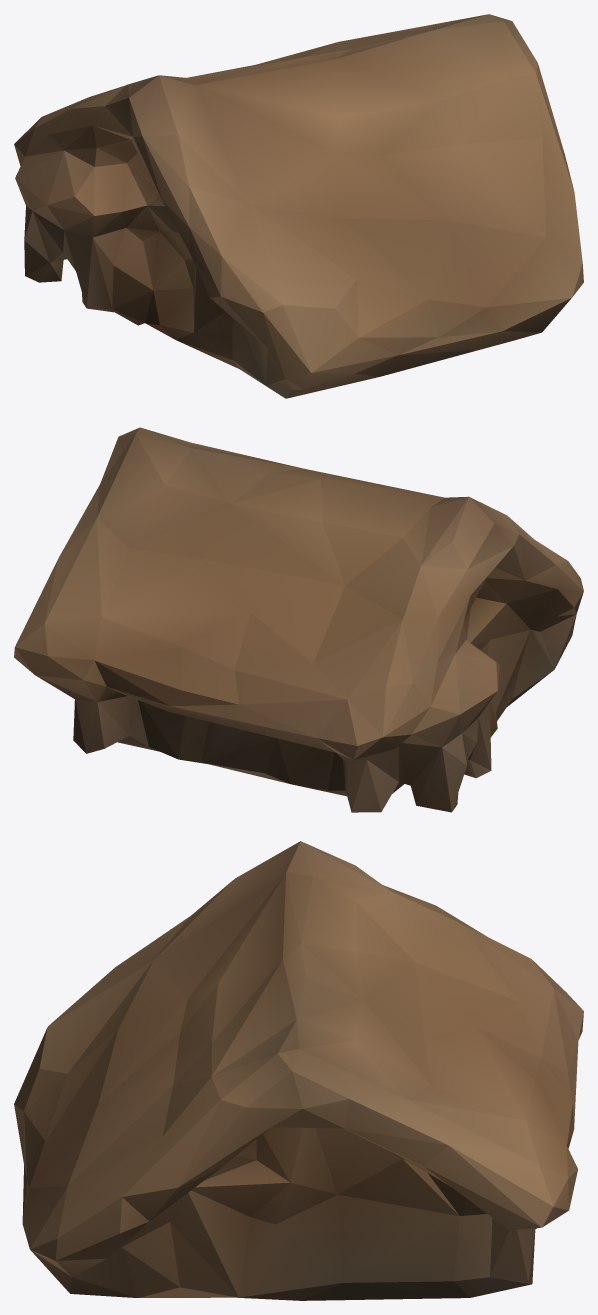
File: farm.glb
3 renders of one model, top to bottom at view 1: azimuth 30°, elevation 25°; view 2: azimuth 150°, elevation 25°; view 3: azimuth 270°, elevation 25°, orthographic. The views are drawn at different scales.
Parts seen in each view (by area): view 1: model.001; view 2: model.001; view 3: model.001.
Boxes of the visible parts, <box> form: model.001: <box>14,14,583,398</box>; model.001: <box>14,427,583,812</box>; model.001: <box>14,841,583,1300</box>.
Size of the model in its own units: 1 by 0.5903 by 1.
